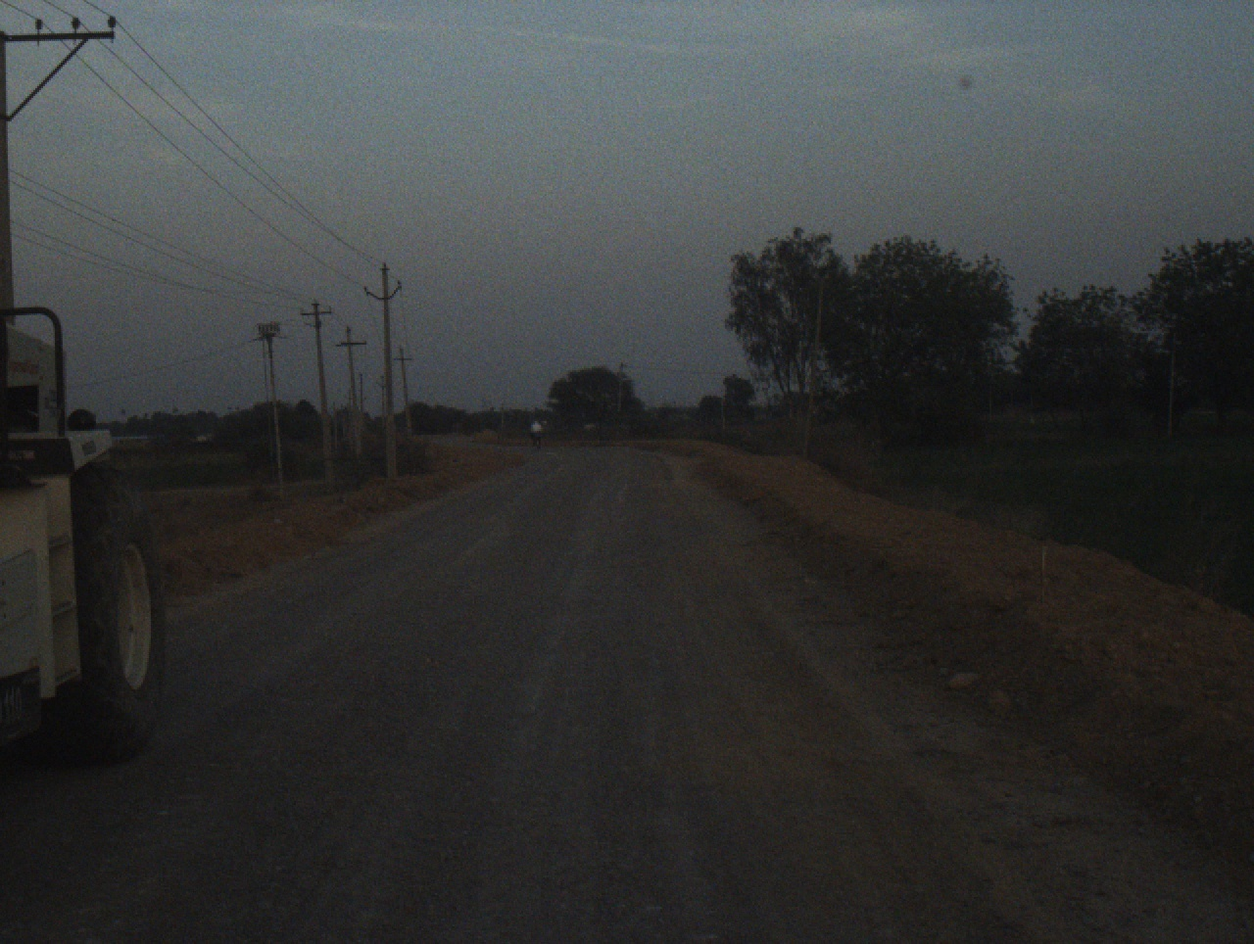bicycle: (535, 427, 544, 444)
rider: (528, 416, 544, 436)
truck: (1, 309, 175, 762)
